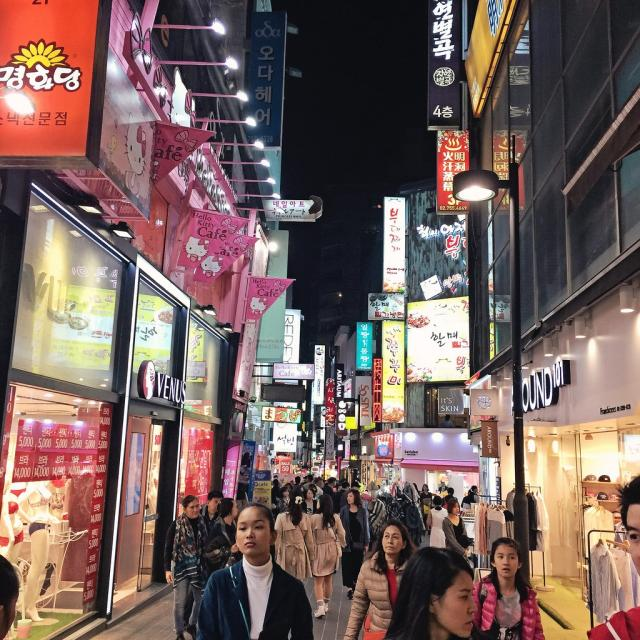body: (194, 501, 315, 640), (0, 453, 66, 640), (379, 545, 480, 640), (583, 474, 640, 640), (342, 518, 418, 640), (461, 534, 548, 639), (162, 492, 214, 639), (310, 493, 348, 619), (271, 488, 317, 583), (338, 488, 371, 600), (203, 497, 244, 573), (440, 497, 476, 569), (418, 483, 434, 532), (339, 480, 363, 510), (274, 486, 293, 523), (234, 484, 250, 527), (333, 481, 351, 514), (299, 487, 319, 515), (270, 478, 282, 523), (237, 448, 252, 484), (144, 361, 157, 401), (460, 484, 479, 508), (292, 476, 308, 500), (442, 488, 458, 510), (336, 478, 362, 490), (272, 474, 294, 488), (322, 476, 337, 496), (300, 476, 329, 486), (302, 474, 318, 491), (442, 414, 458, 428), (312, 479, 325, 496), (377, 477, 392, 491), (438, 481, 450, 493), (409, 479, 418, 494)
